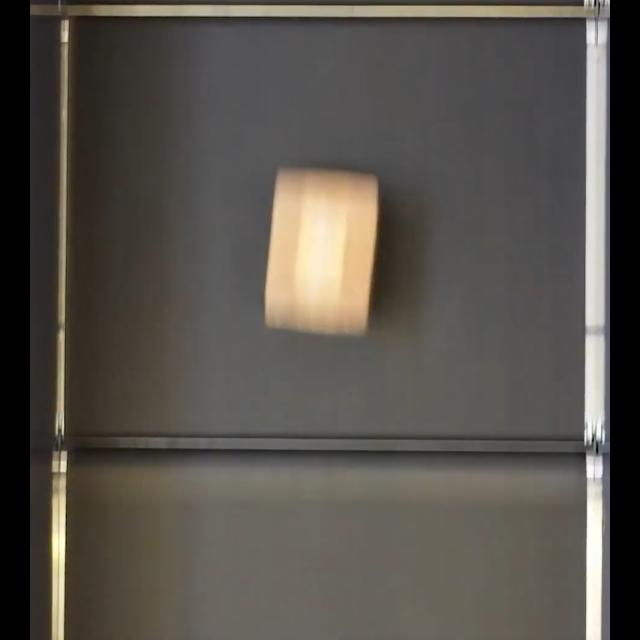box: (262, 165, 381, 338)
